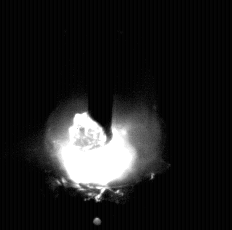arame: (88, 0, 115, 144)
poca: (44, 0, 162, 230)
